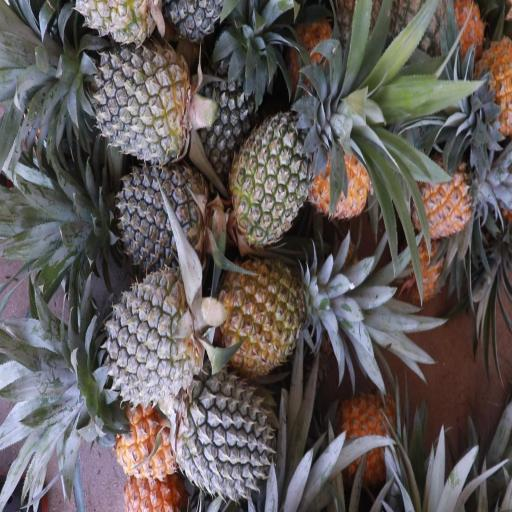------------------------------: (228, 113, 328, 237), (216, 258, 308, 371)
Pineapple - v8 v1: (104, 388, 177, 479), (335, 398, 391, 496), (309, 132, 373, 217), (418, 152, 480, 237)
